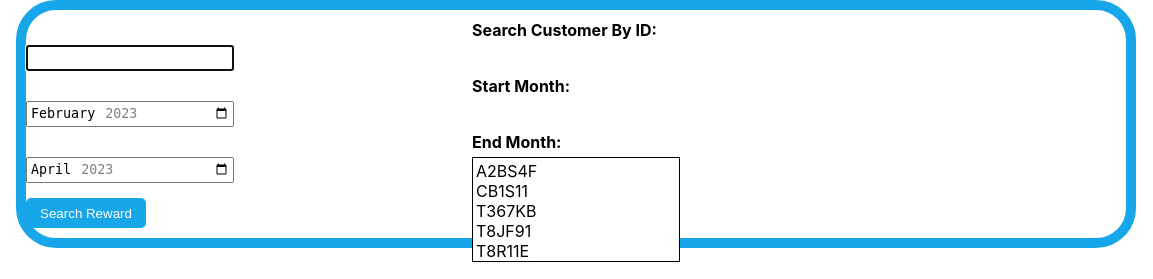
it: SearchRewardBar › should render auto complete for customer input
The image size is (1153, 279).
Click the text with test id "reward-app_search_related-customer" showing "A2BS4F": x=507, y=171 [476, 161, 537, 181]
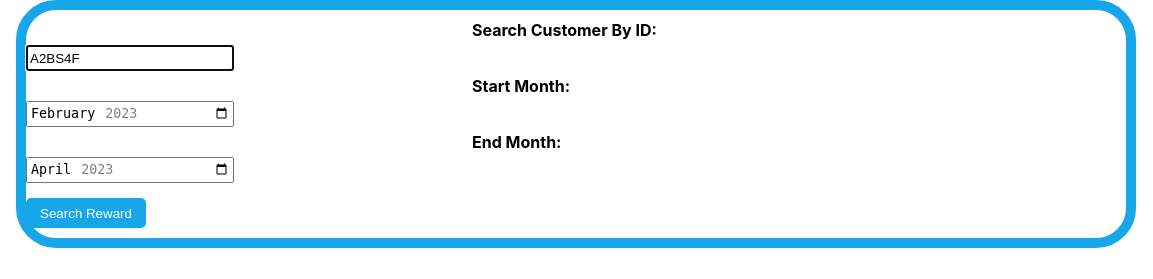
Expected: the field with test id "reward-app_search_search-bar" below "Search Customer By ID:" holds "A2BS4F", [26, 45, 234, 71]
